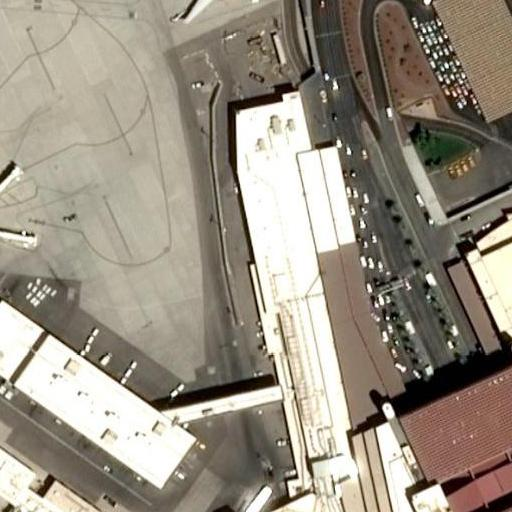Aircraft: (155, 0, 257, 22)
